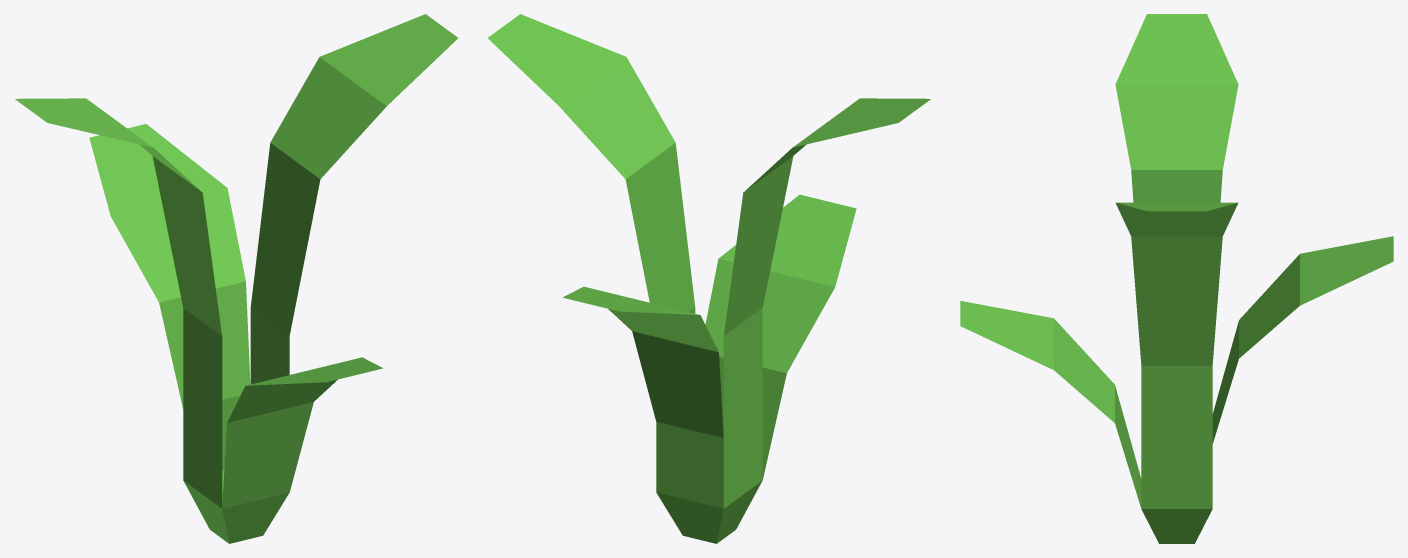
Rendered from crops_leafsStageA.glb.
3 views of the same model, side by side, from view 1: azimuth 30°, elevation 25°; view 2: azimuth 150°, elevation 25°; view 3: azimuth 270°, elevation 25° (orthographic). The views are drawn at different scales.
Parts seen in each view (by area): view 1: crops_leafsStageA; view 2: crops_leafsStageA; view 3: crops_leafsStageA.
Boxes of the visible parts, box(x1,y1,x2,y2) form: crops_leafsStageA: box(15, 14, 457, 543); crops_leafsStageA: box(488, 14, 930, 543); crops_leafsStageA: box(960, 14, 1393, 543).
Bounding box in the file's own units: 0.3894 × 0.4271 × 0.3894.
